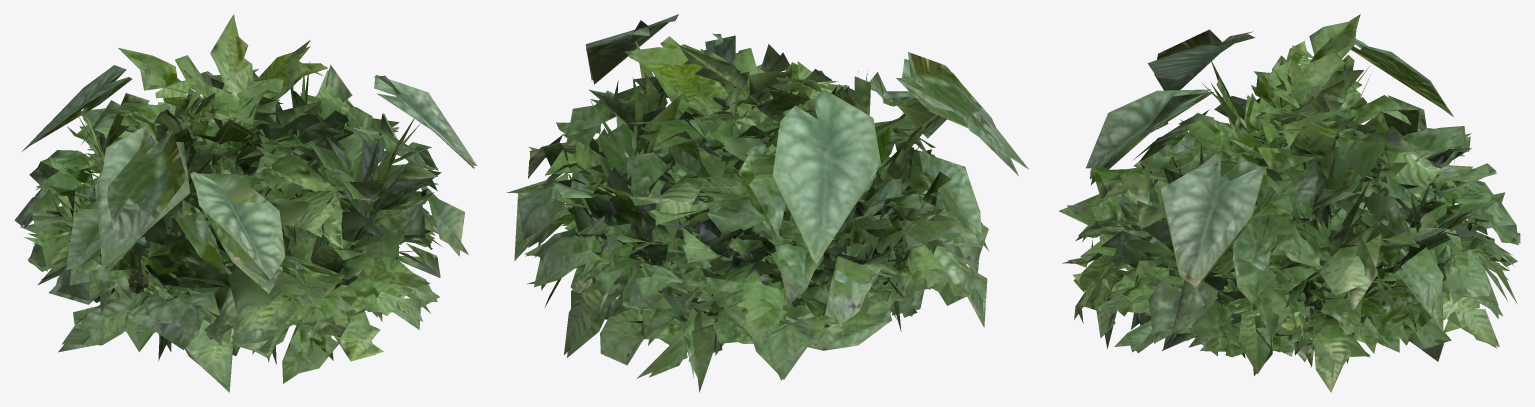
File: understory.glb
The picture shows the model from 3 angles, left to right: view 1: azimuth 30°, elevation 25°; view 2: azimuth 150°, elevation 25°; view 3: azimuth 270°, elevation 25°; orthographic projection. The views are drawn at different scales.
Parts seen in each view (by area): view 1: lod0; view 2: lod0; view 3: lod0.
Part boxes in pixels (x1,y1,x2,y2): lod0: [14, 14, 477, 392]; lod0: [506, 14, 1028, 392]; lod0: [1059, 14, 1520, 392].
Size of what is drawn, in the model's own units: 0.6534 by 0.4227 by 0.6398.
1 material, 1 textured.
